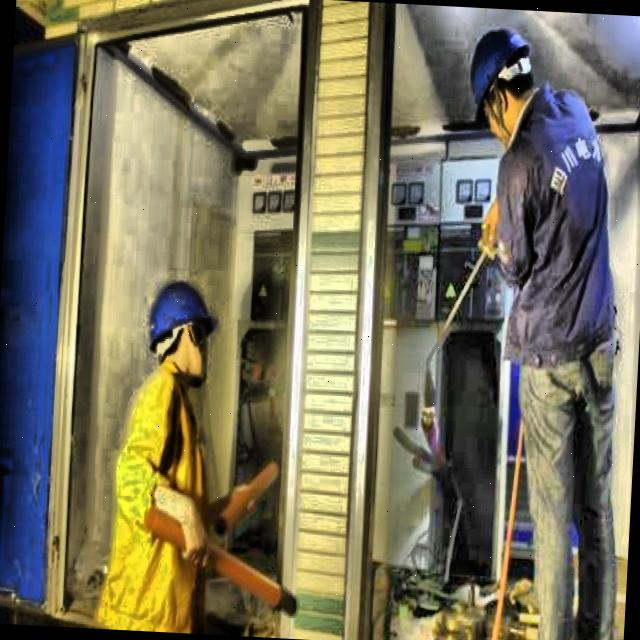helmet: (465, 17, 551, 153), (139, 266, 221, 396)
